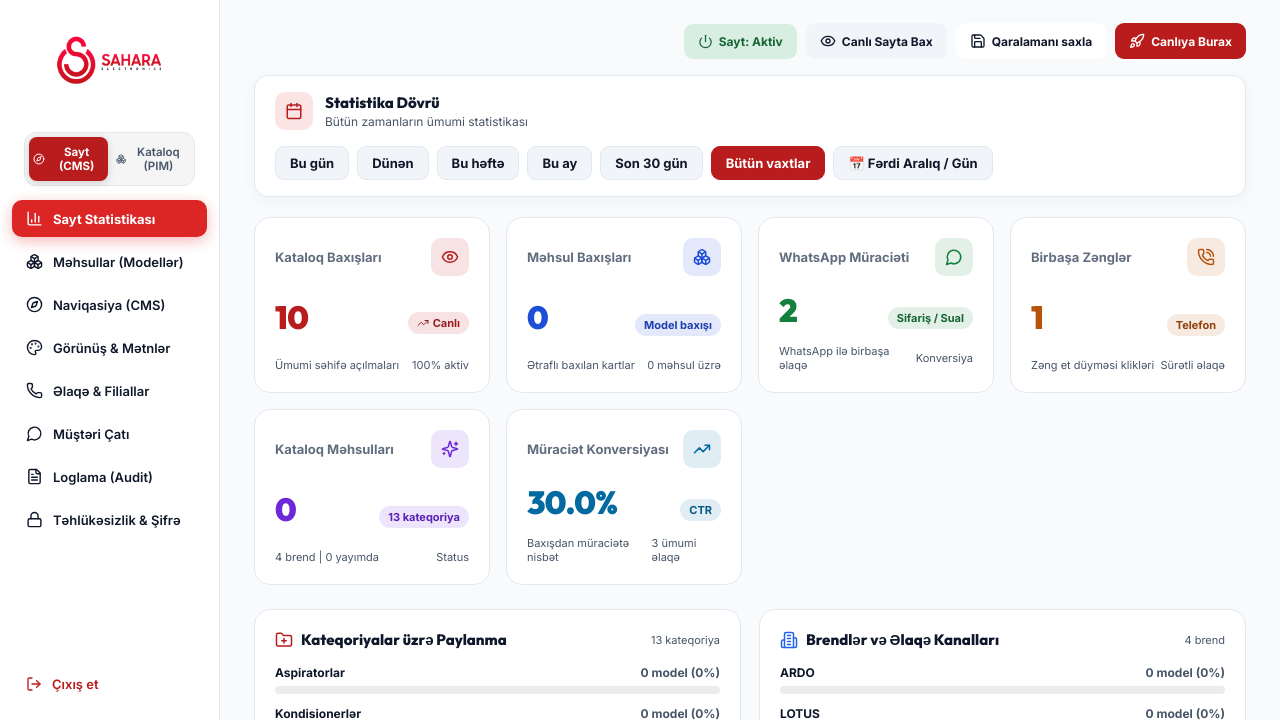
Test: Admin Panel Mode Separation (Site CMS vs Catalog PIM) › smoothly switches between Site CMS and Catalog PIM via the segmented mode switcher
Check: the button "Naviqasiya (CMS)" is shown, box top-left (12, 286), bottom-right (207, 323)
// Switch to Catalog mode
What coordinates should you click on to do the following:
click the button "Kataloq (PIM)"
I would click on:
 (151, 159)
Its box is top-left (112, 137), bottom-right (190, 181).
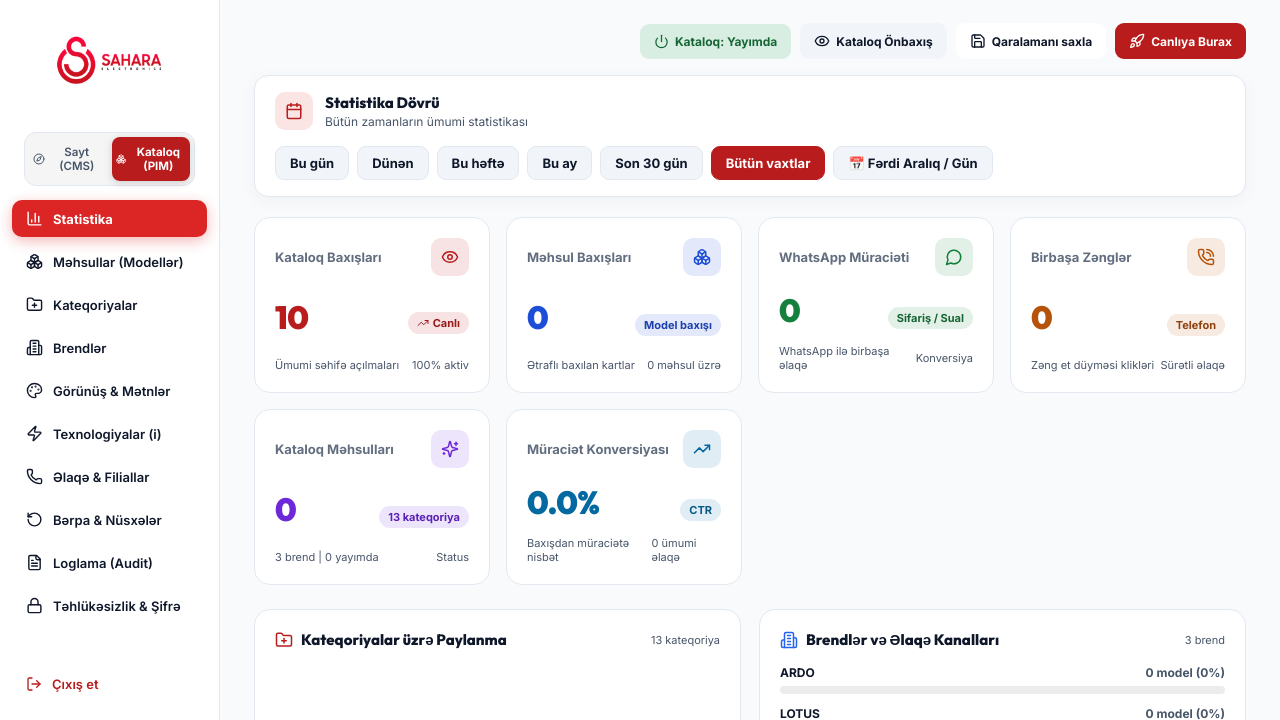
Check: the button "Məhsullar (Modellər)" is shown, box top-left (12, 243), bottom-right (207, 280)
Check: the button "Naviqasiya (CMS)" is gone
// Switch back to Site mode
What coordinates should you click on to do the following:
click the button "Sayt (CMS)"
I would click on:
 (68, 159)
Its box is top-left (29, 137), bottom-right (108, 181).
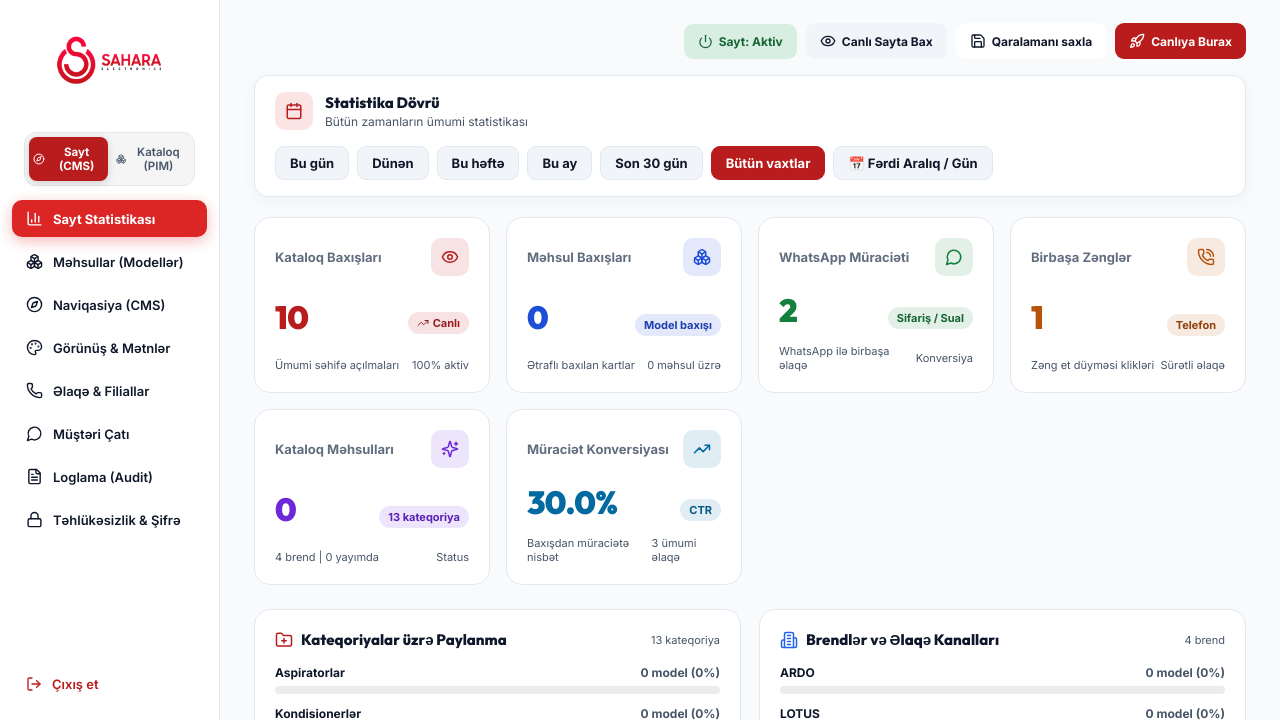
Check: the button "Naviqasiya (CMS)" is shown, box top-left (12, 286), bottom-right (207, 323)
